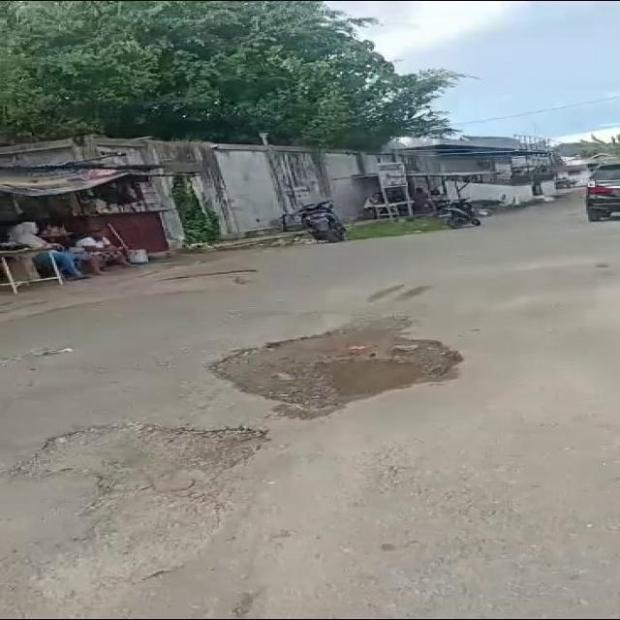lubang: (0, 424, 265, 598), (212, 317, 462, 418)
